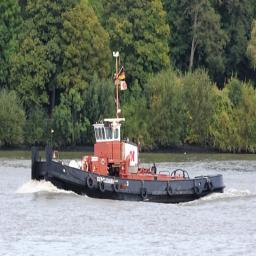tugboat: (33, 106, 228, 209)
